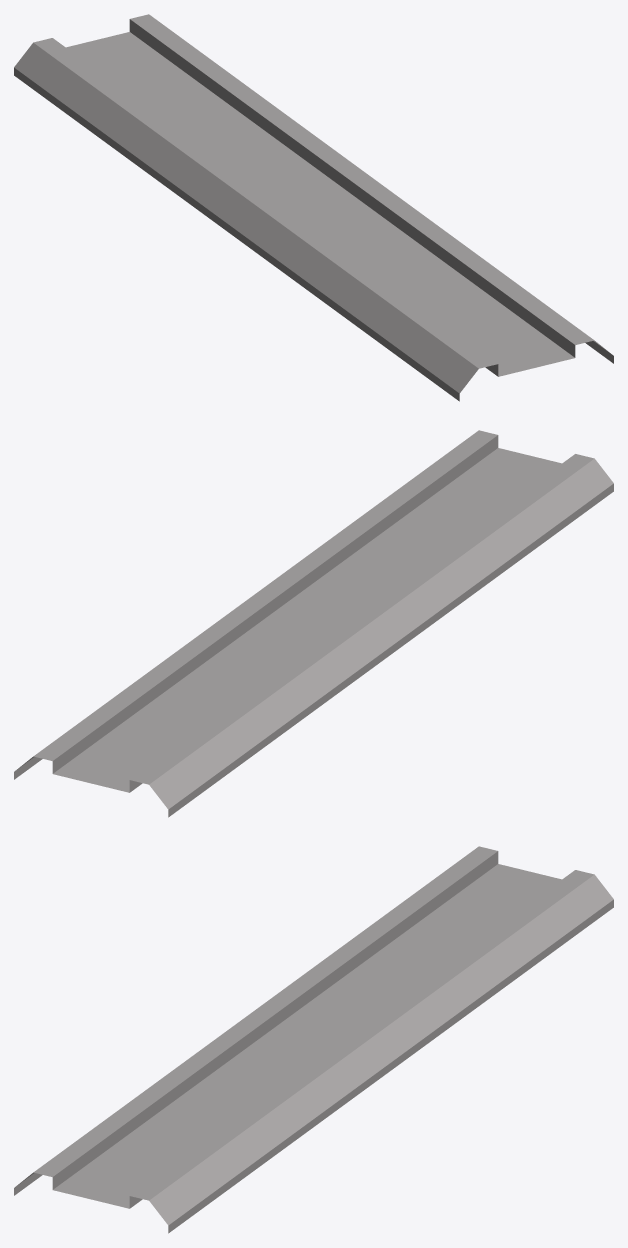
The model's file is FloorRail2M.fbx.
The picture shows the model from 3 angles, top to bottom: view 1: azimuth 30°, elevation 25°; view 2: azimuth 150°, elevation 25°; view 3: azimuth 330°, elevation 25°; orthographic projection.
Visible parts, largest first — view 1: FloorRail2M; view 2: FloorRail2M; view 3: FloorRail2M.
Part boxes in pixels (x1,y1,x2,y2): FloorRail2M: (14,14,613,401); FloorRail2M: (14,430,613,817); FloorRail2M: (14,846,613,1233).
Bounding box in the file's own units: 40 × 7.02 × 200.
